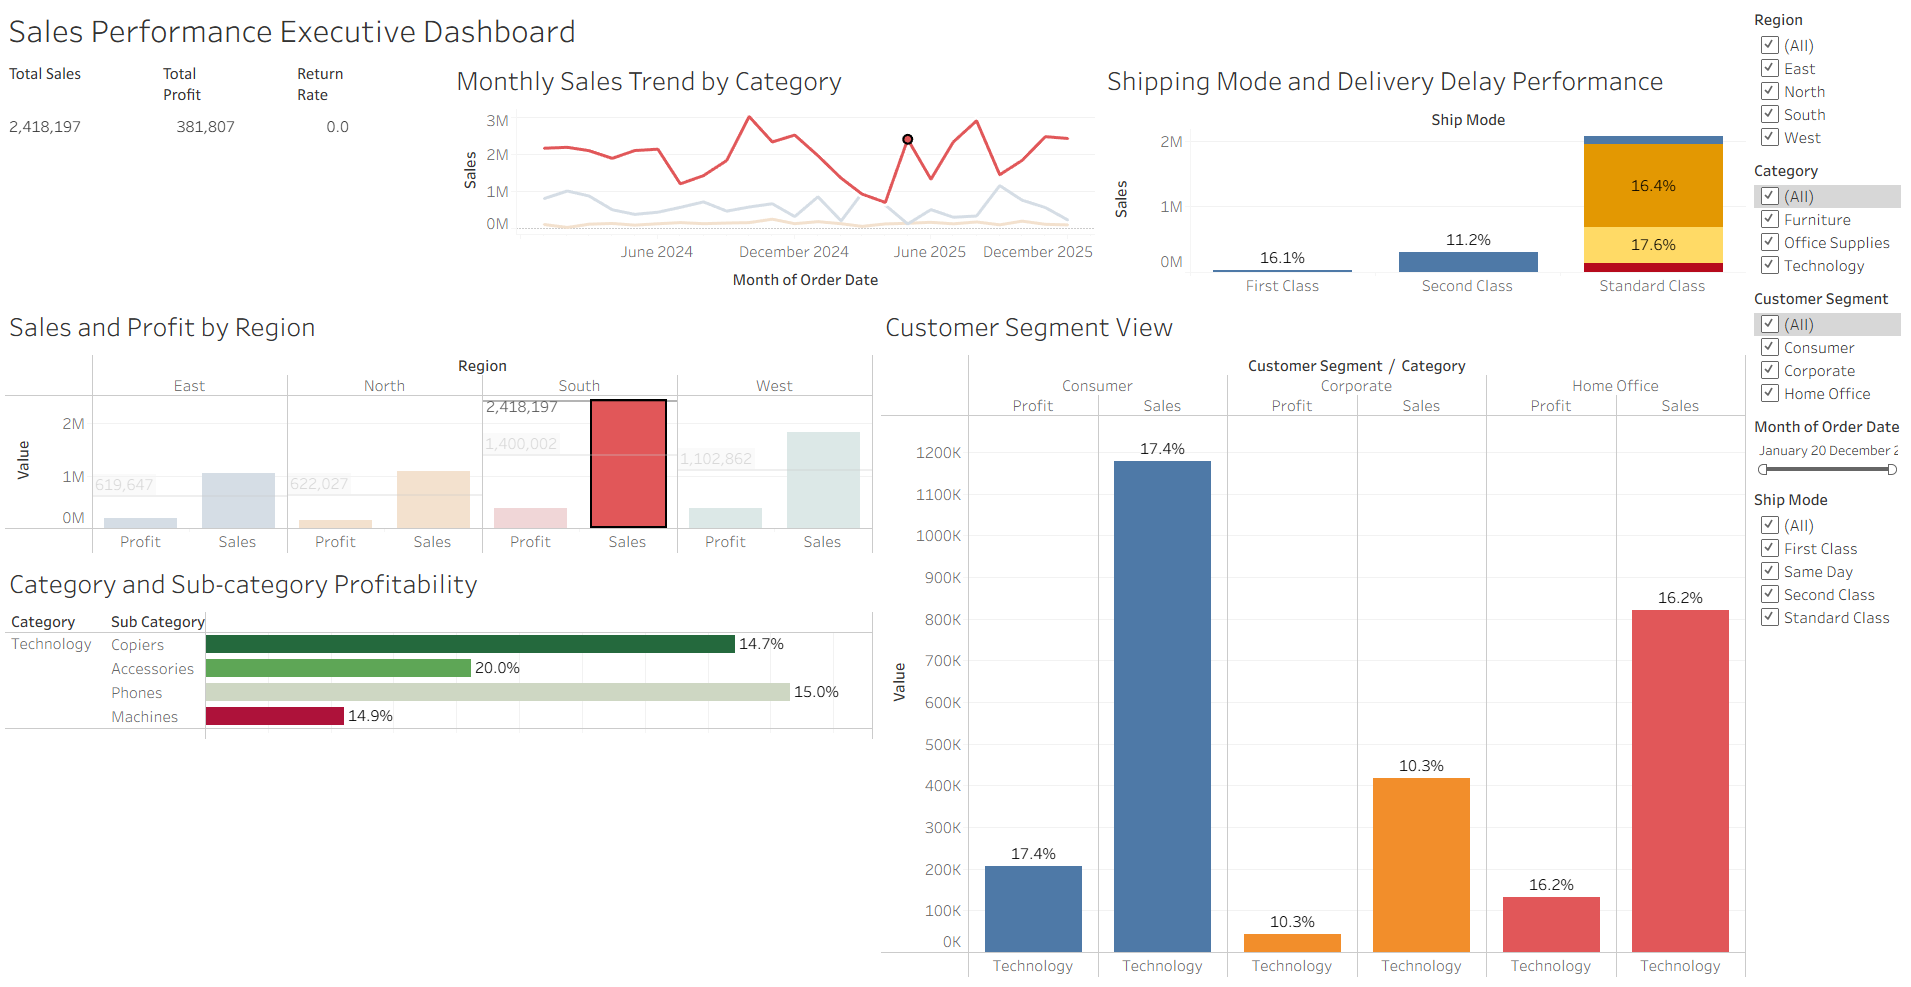

What the dashboard file says about the page in this screenshot:
{"tool":"tableau","page":{"name":"Executive Dashboard","canvas":[1000,1000],"units":"permille","ordinal":0},"visuals":[{"type":"title","box":[4.2,10,909.4,62.4]},{"type":"filter","title":"Sales Trend View","param":"[federated.1woflc01fgkei51bctz091ogqvy9].[none:region:nk]","box":[913.7,10,82.1,188.5]},{"type":"worksheet","title":"KPI - Total Sales","mark":"Text","box":[4.2,72.4,80.1,243.3]},{"type":"worksheet","title":"KPI - Total Profit","mark":"Automatic","box":[84.3,72.4,69.6,243.3]},{"type":"worksheet","title":"KPI - Return Rate","mark":"Automatic","box":[153.9,72.4,83,243.3]},{"type":"worksheet","title":"Sales Trend View","mark":"Automatic","rows":["sales"],"cols":["order_date"],"box":[236.9,72.4,338.3,243.3]},{"type":"worksheet","title":"Shipping Performance View","mark":"Bar","rows":["sales"],"cols":["ship_mode"],"box":[575.2,72.4,338.4,243.3]},{"type":"filter","title":"Sales Trend View","param":"[federated.1woflc01fgkei51bctz091ogqvy9].[none:category:nk]","box":[913.7,198.5,82.1,159.8]},{"type":"worksheet","title":"Regional Performance View","mark":"Automatic","cols":["region"],"box":[4.2,315.7,455.4,254.7]},{"type":"worksheet","title":"Customer Segment View","mark":"Automatic","cols":["customer_segment","category"],"box":[459.7,315.7,454,674.3]},{"type":"filter","title":"Sales Trend View","param":"[federated.1woflc01fgkei51bctz091ogqvy9].[none:customer_segment:nk]","box":[913.7,358.3,82.1,159.8]},{"type":"filter","title":"Sales Trend View","param":"[federated.1woflc01fgkei51bctz091ogqvy9].[tmn:order_date:qk]","box":[913.7,518.1,82.1,91.1]},{"type":"worksheet","title":"Category Profitability View","mark":"Automatic","rows":["category","sub_category"],"cols":["sales"],"box":[4.2,570.4,455.4,419.6]},{"type":"filter","title":"Sales Trend View","param":"[federated.1woflc01fgkei51bctz091ogqvy9].[none:ship_mode:nk]","box":[913.7,609.2,82.1,188.5]}]}

Visuals, with their boxes on the dashboard's canvas, which has no fixed pixel size, in thousandths of its width and height (x1, y1, x2, y2). These are canvas units, not pixel positions in the 1911x987 screenshot, which may show the page scaled, cropped or inside an application window:
title: (4, 10, 914, 72)
"Sales Trend View" filter: (914, 10, 996, 198)
"KPI - Total Sales" worksheet (Text marks): (4, 72, 84, 316)
"KPI - Total Profit" worksheet: (84, 72, 154, 316)
"KPI - Return Rate" worksheet: (154, 72, 237, 316)
"Sales Trend View" worksheet: (237, 72, 575, 316)
"Shipping Performance View" worksheet (Bar marks): (575, 72, 914, 316)
"Sales Trend View" filter: (914, 198, 996, 358)
"Regional Performance View" worksheet: (4, 316, 460, 570)
"Customer Segment View" worksheet: (460, 316, 914, 990)
"Sales Trend View" filter: (914, 358, 996, 518)
"Sales Trend View" filter: (914, 518, 996, 609)
"Category Profitability View" worksheet: (4, 570, 460, 990)
"Sales Trend View" filter: (914, 609, 996, 798)
